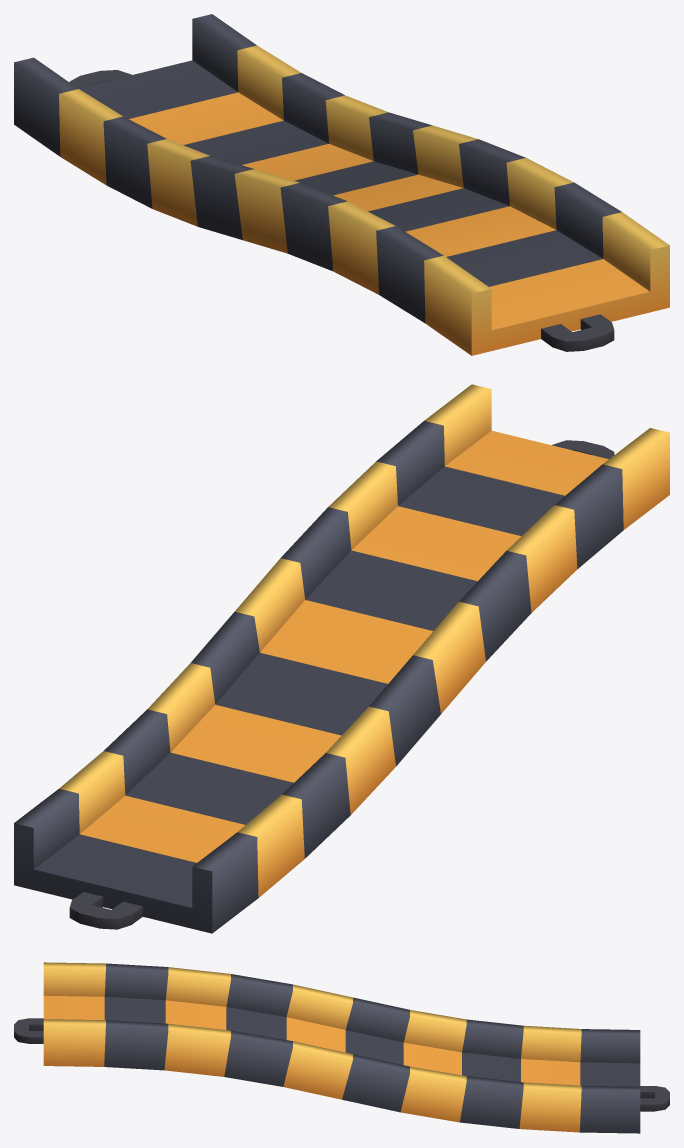
The model's file is track-striped-narrow-straight-hill-complete-half.fbx.
The picture shows the model from 3 angles, top to bottom: view 1: azimuth 30°, elevation 25°; view 2: azimuth 150°, elevation 25°; view 3: azimuth 270°, elevation 25°; orthographic projection. The views are drawn at different scales.
Visible parts, largest first — view 1: track-striped-narrow-straight-hill-complete-half; view 2: track-striped-narrow-straight-hill-complete-half; view 3: track-striped-narrow-straight-hill-complete-half.
Boxes of the visible parts, x1,y1,x2,y2 form: track-striped-narrow-straight-hill-complete-half: [14, 14, 669, 355]; track-striped-narrow-straight-hill-complete-half: [14, 384, 669, 933]; track-striped-narrow-straight-hill-complete-half: [14, 962, 669, 1133].
Bounding box in the file's own units: 100 × 80 × 440.
